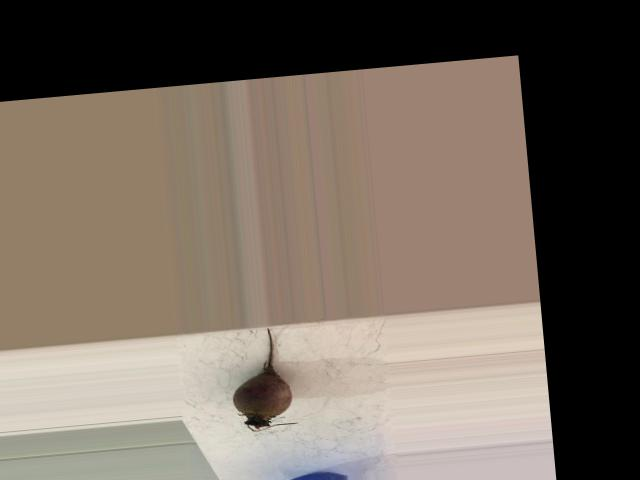beet: (227, 325, 299, 433)
